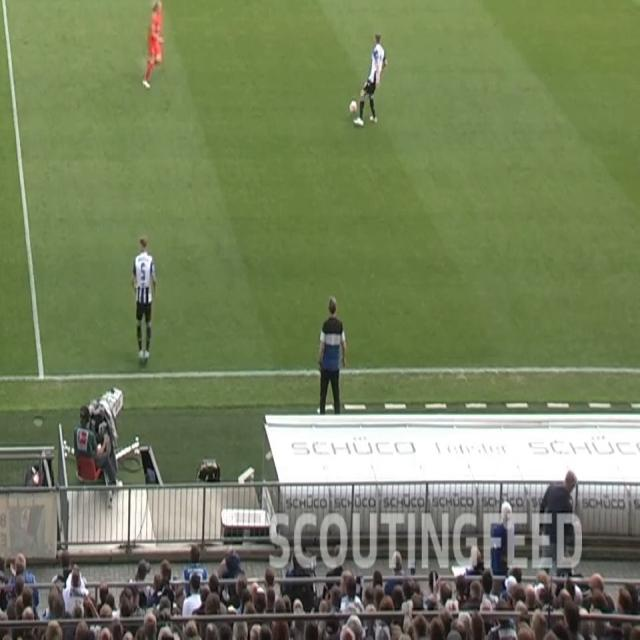ball: (349, 99, 358, 115)
